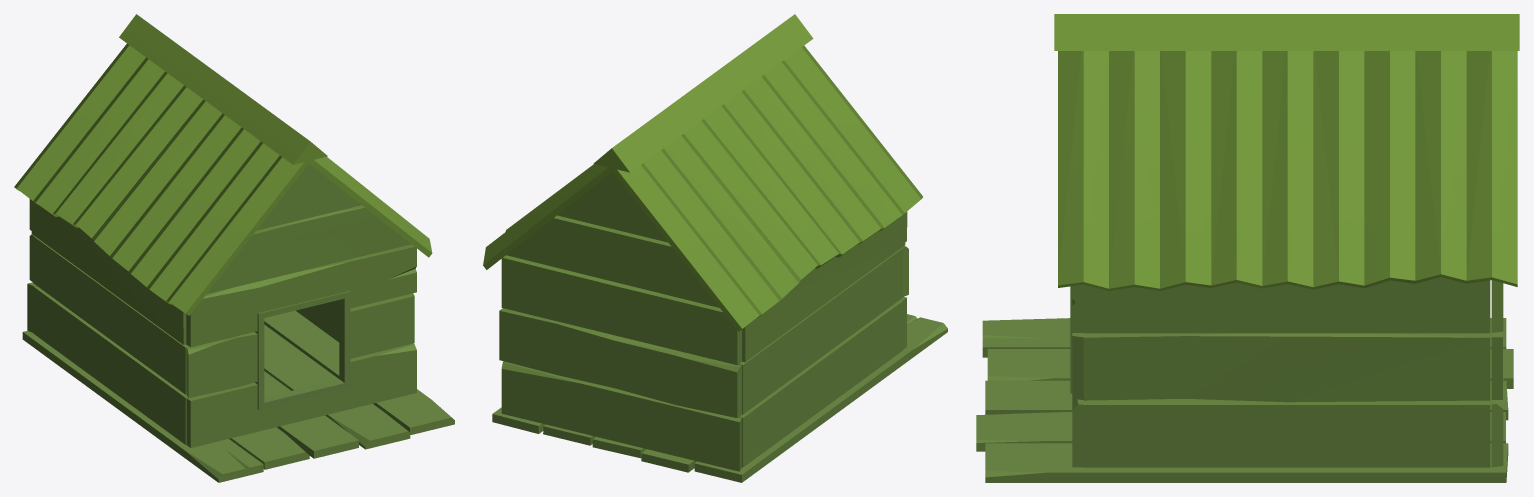
File: Doghouse_01.fbx
The picture shows the model from 3 angles, left to right: view 1: azimuth 30°, elevation 25°; view 2: azimuth 150°, elevation 25°; view 3: azimuth 270°, elevation 25°; orthographic projection. The views are drawn at different scales.
Parts seen in each view (by area): view 1: Doghouse_01; view 2: Doghouse_01; view 3: Doghouse_01.
Part boxes in pixels (left/top/right/bottom): Doghouse_01: left=14, top=14, right=454, bottom=482; Doghouse_01: left=483, top=14, right=947, bottom=482; Doghouse_01: left=976, top=14, right=1519, bottom=482.
Bounding box in the file's own units: 0.9621 × 1.02 × 1.28.
